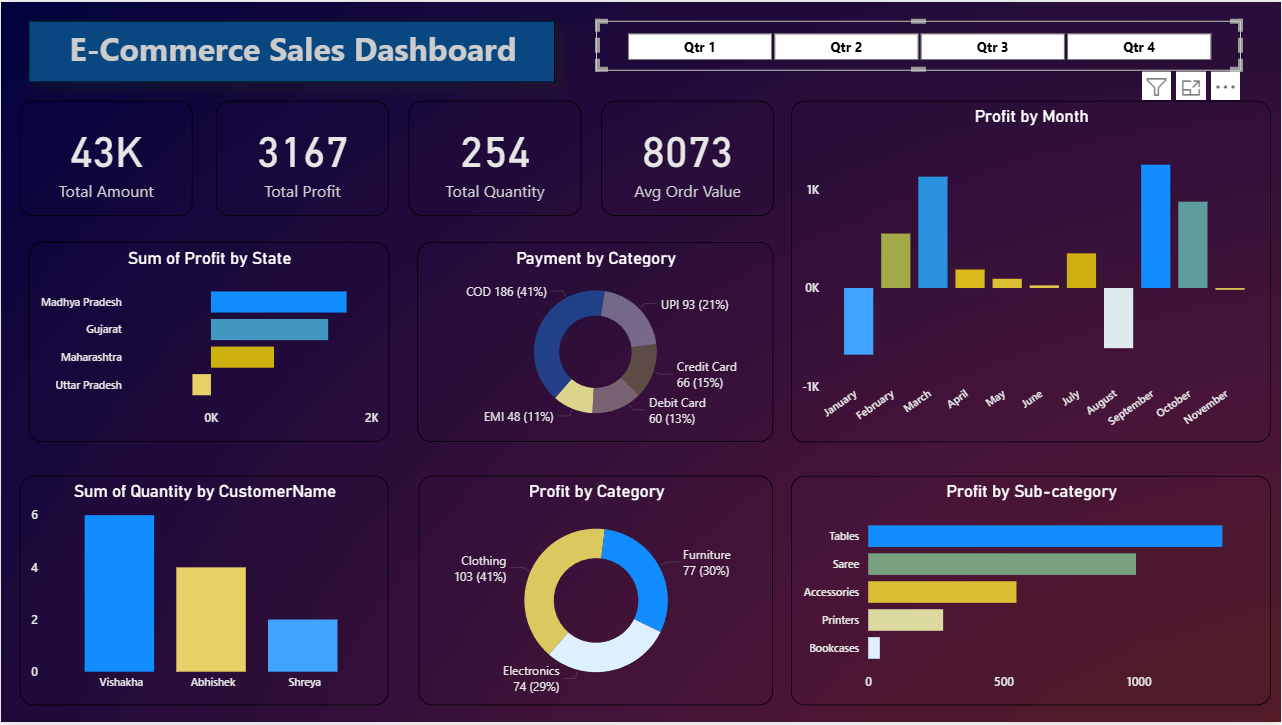

The page's visual inventory and layout, read from the dashboard file:
{"tool":"powerbi","page":{"name":"Page 1","canvas":[1280,720],"ordinal":0},"visuals":[{"type":"textbox","box":[27.4,19,526.2,61.9],"z":0},{"type":"columnChart","title":"Profit by Month","fields":{"Category":["Orders.Order Date.Variation.Date Hierarchy.Month"],"Y":["Sum(Details.Profit)"]},"box":[790.5,98.8,479.8,341.7],"z":1000},{"type":"clusteredBarChart","title":"Profit by Sub-category","fields":{"Y":["Sum(Details.Profit)"],"Category":["Details.Sub-Category"]},"box":[790.5,473.8,479.8,229.8],"z":2000},{"type":"donutChart","title":"Profit by Category","fields":{"Category":["Details.Category"],"Y":["Sum(Details.Quantity)"]},"box":[417.9,473.8,354.8,229.8],"z":2001},{"type":"donutChart","title":"Payment by Category","fields":{"Y":["CountNonNull(Details.Category)"],"Category":["Details.PaymentMode"]},"box":[416.7,240.5,356,200],"z":2002},{"type":"card","fields":{"Values":["Sum(Details.Amount)"]},"box":[19,98.8,172.6,115.5],"z":2003},{"type":"card","fields":{"Values":["Sum(Details.Profit)"]},"box":[215.5,98.8,172.6,115.5],"z":2004},{"type":"card","fields":{"Values":["Sum(Details.Quantity)"]},"box":[407.1,98.8,172.6,115.5],"z":2005},{"type":"card","fields":{"Values":["Sum(Details.Avg Ordr Value)"]},"box":[600,98.8,172.6,115.5],"z":2006},{"type":"barChart","fields":{"Category":["Orders.State"],"Y":["Sum(Details.Profit)"]},"box":[27.4,240.5,360.7,200],"z":2007},{"type":"columnChart","fields":{"Y":["Sum(Details.Quantity)"],"Category":["Orders.CustomerName"]},"box":[19,473.8,369,229.8],"z":2008},{"type":"slicer","fields":{"Values":["Orders.Order Date.Variation.Date Hierarchy.Quarter"]},"box":[595.2,19,645.2,50],"z":2009}]}

Visuals, with their boxes in screenshot pixels (x1, y1, x2, y2), scaled from the page's 1280x720 canvas onto the 1282x725 screenshot:
textbox: x1=27, y1=19, x2=554, y2=81
"Profit by Month" columnChart: x1=792, y1=99, x2=1272, y2=444
"Profit by Sub-category" clusteredBarChart: x1=792, y1=477, x2=1272, y2=708
"Profit by Category" donutChart: x1=419, y1=477, x2=774, y2=708
"Payment by Category" donutChart: x1=417, y1=242, x2=774, y2=444
card - Sum(Details.Amount): x1=19, y1=99, x2=192, y2=216
card - Sum(Details.Profit): x1=216, y1=99, x2=389, y2=216
card - Sum(Details.Quantity): x1=408, y1=99, x2=581, y2=216
card - Sum(Details.Avg Ordr Value): x1=601, y1=99, x2=774, y2=216
barChart - Orders.State x Sum(Details.Profit): x1=27, y1=242, x2=389, y2=444
columnChart - Sum(Details.Quantity) x Orders.CustomerName: x1=19, y1=477, x2=389, y2=708
slicer - Orders.Order Date.Variation.Date Hierarchy.Quarter: x1=596, y1=19, x2=1242, y2=69
